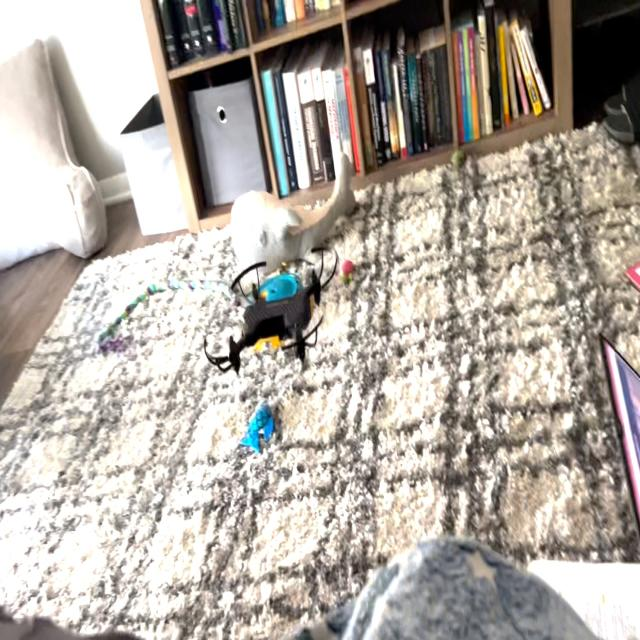drone: (200, 228, 343, 386)
